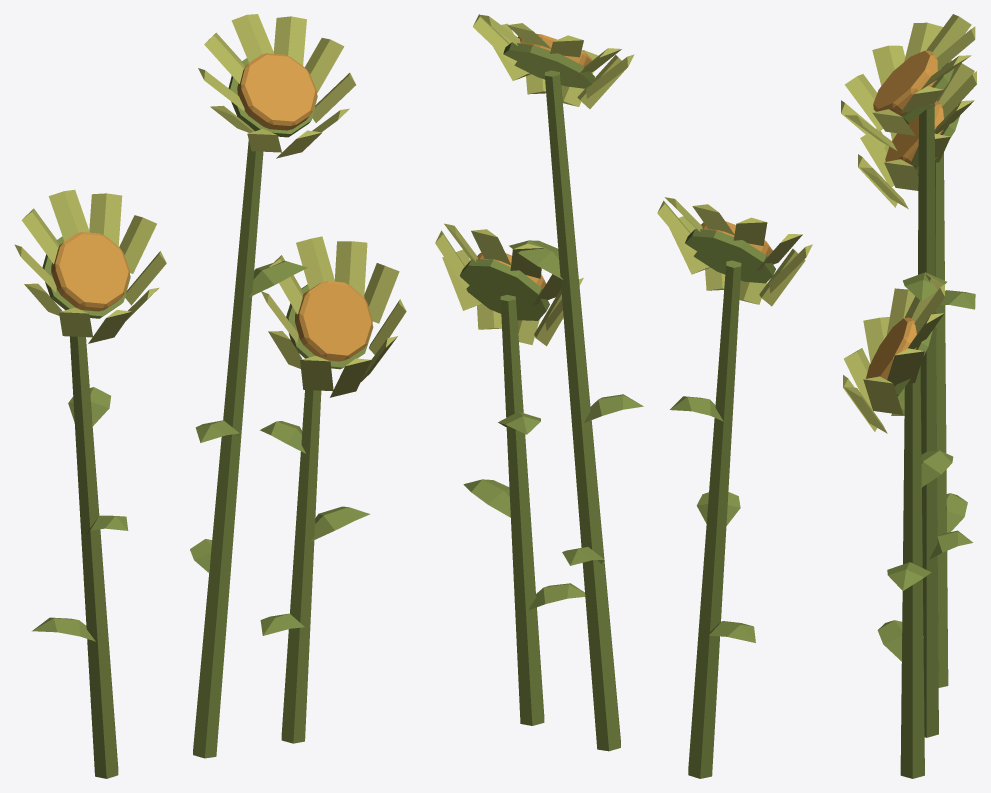
The model's file is foliage_sunflower_a.glb.
3 renders of one model, left to right at view 1: azimuth 30°, elevation 25°; view 2: azimuth 150°, elevation 25°; view 3: azimuth 270°, elevation 25°, orthographic. The views are drawn at different scales.
Visible parts, largest first — view 1: sun_head_back_0, sun_petal_0_00, sun_head_disc_0; view 2: sun_head_back_0, sun_petal_0_00, sun_head_disc_0; view 3: sun_head_back_0, sun_petal_0_00, sun_head_disc_0.
Boxes of the visible parts, bbox=[...] form: sun_head_back_0: bbox=[32, 52, 373, 778]; sun_petal_0_00: bbox=[14, 14, 406, 397]; sun_head_disc_0: bbox=[51, 53, 372, 361]; sun_head_back_0: bbox=[460, 42, 775, 778]; sun_petal_0_00: bbox=[435, 14, 812, 346]; sun_head_disc_0: bbox=[477, 34, 772, 289]; sun_head_back_0: bbox=[877, 60, 975, 778]; sun_petal_0_00: bbox=[841, 14, 976, 433]; sun_head_disc_0: bbox=[866, 50, 943, 379].
Size of the model in its own units: 0.9401 by 1.74 by 0.2912.
